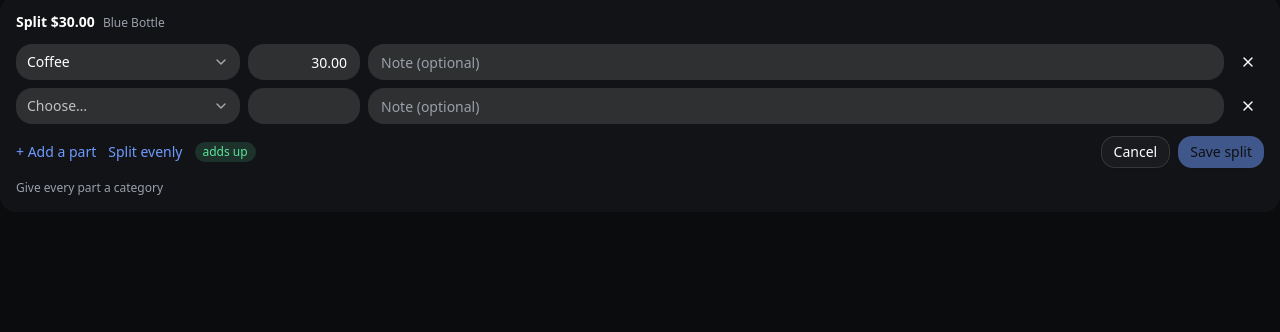
Test: SplitEditor › won't take a negative amount
The width and height of the screenshot is (1280, 332).
Click the dropdown named "Category of part 2" at {"x": 128, "y": 106}, box [16,88,240,124]
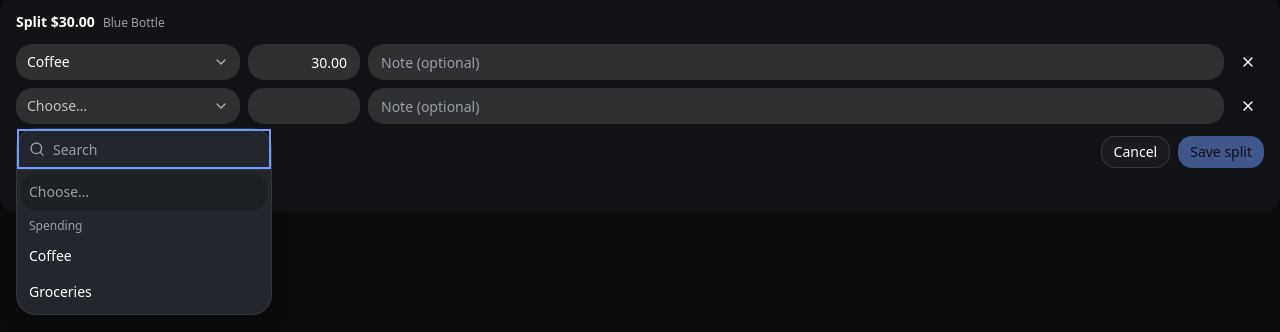
Click the option "Groceries" at {"x": 60, "y": 292}, box [29,282,92,301]
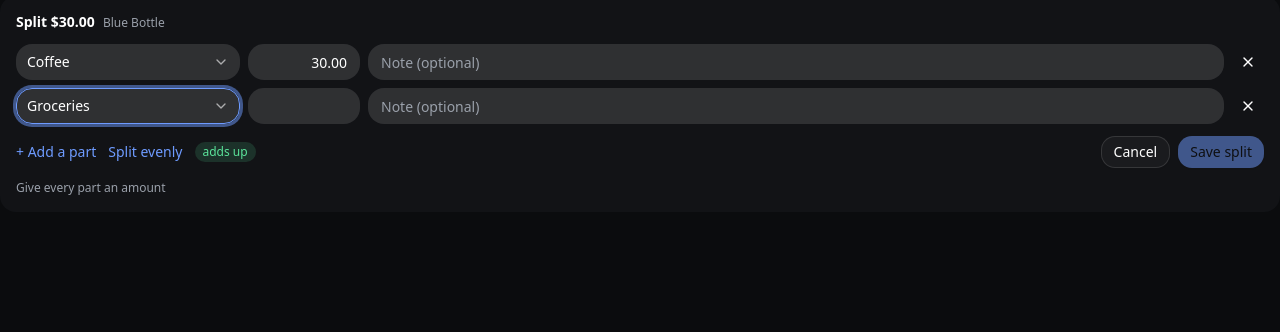
Type "-5" into the field named "Amount of part 2" at {"x": 304, "y": 106}, box [248,88,360,124]
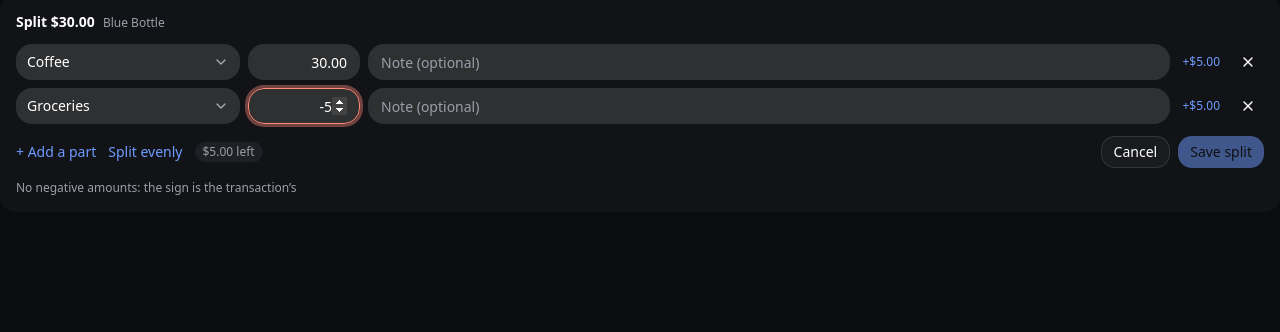
Check: the button "Save split" is disabled, box [1178,136,1264,168]
Check: the text "No negative amounts: the sign is the transaction’s" is shown, box [16,179,297,196]
